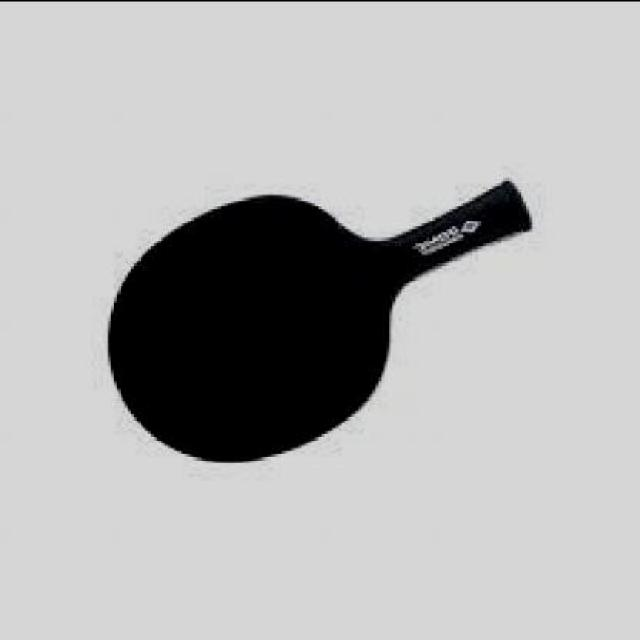table_tennis_racket: (105, 187, 397, 467)
